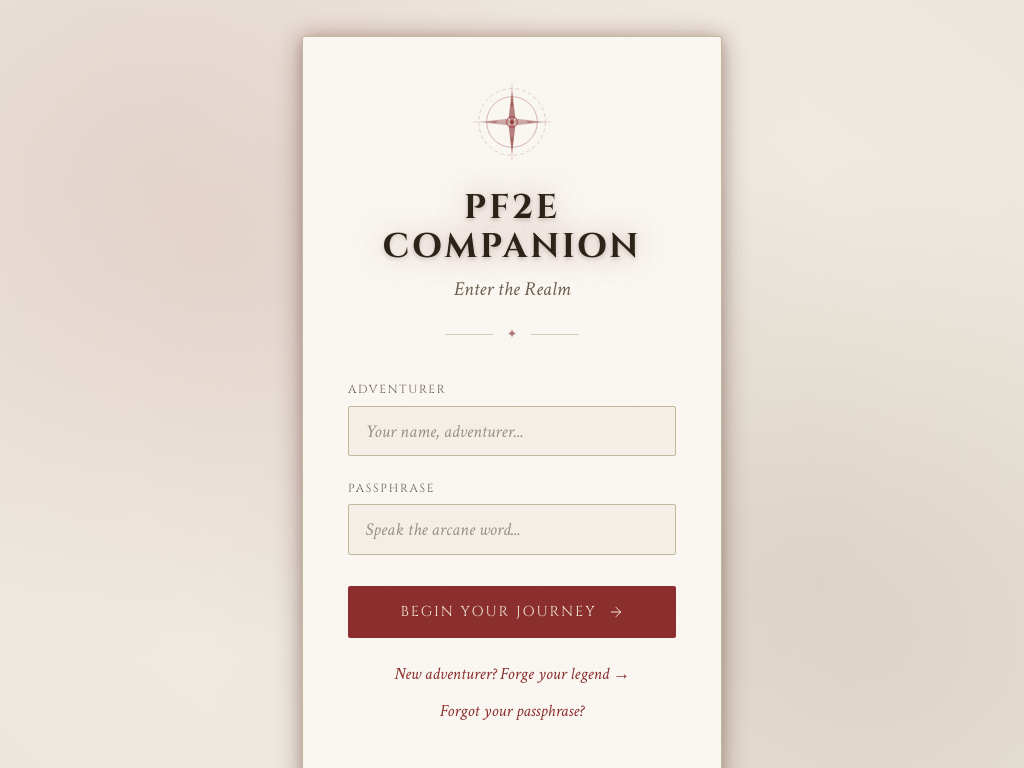
Test case: Login › should show error message when login fails
Type "testuser" into the field labelled "Adventurer" at (512, 431), box [348,406,676,456]
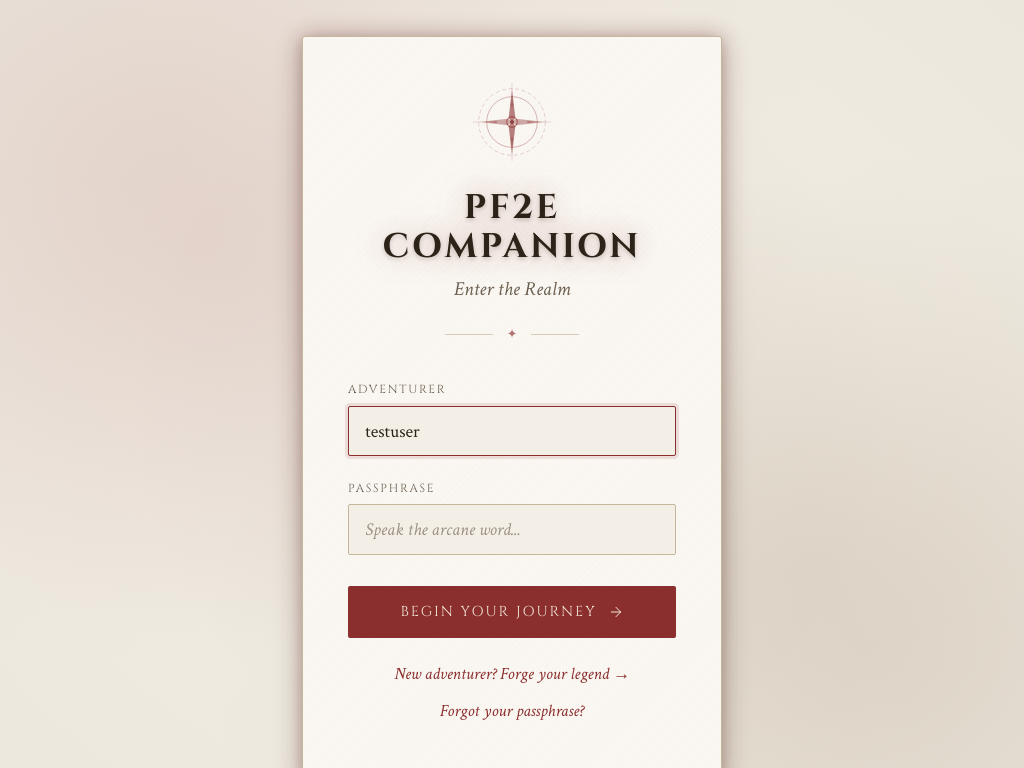
Type "wrongpass" into the password field labelled "Passphrase" at (512, 529), box [348,504,676,554]
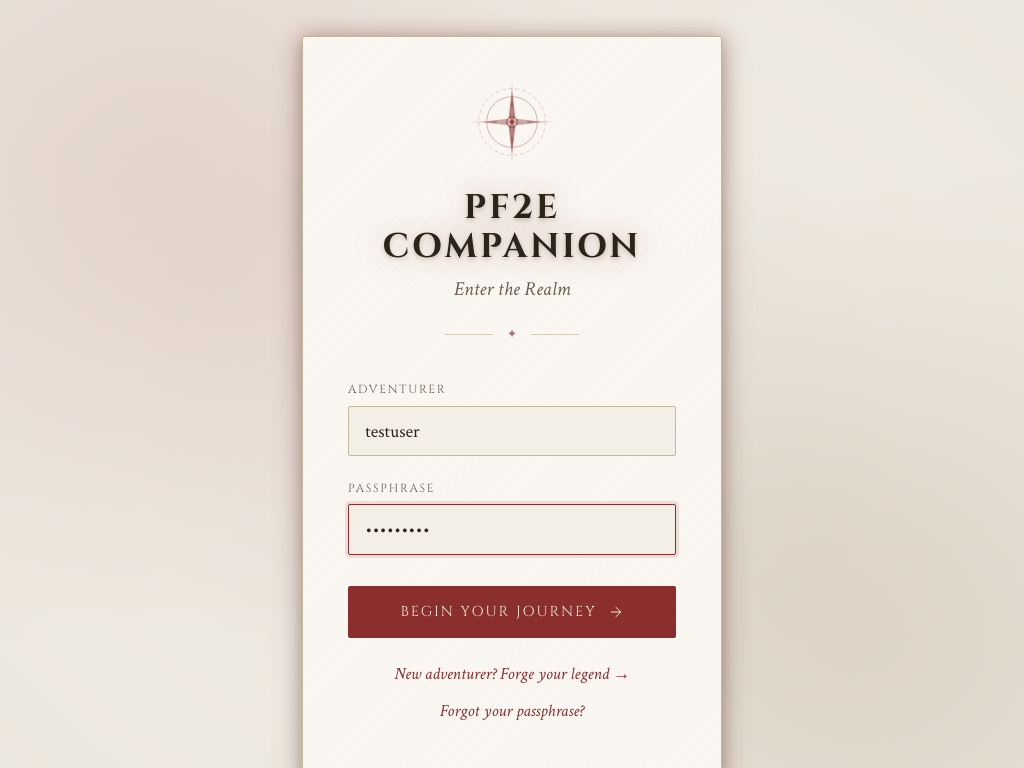
Click the button "Begin Your Journey" at (512, 612), box [348,586,676,638]
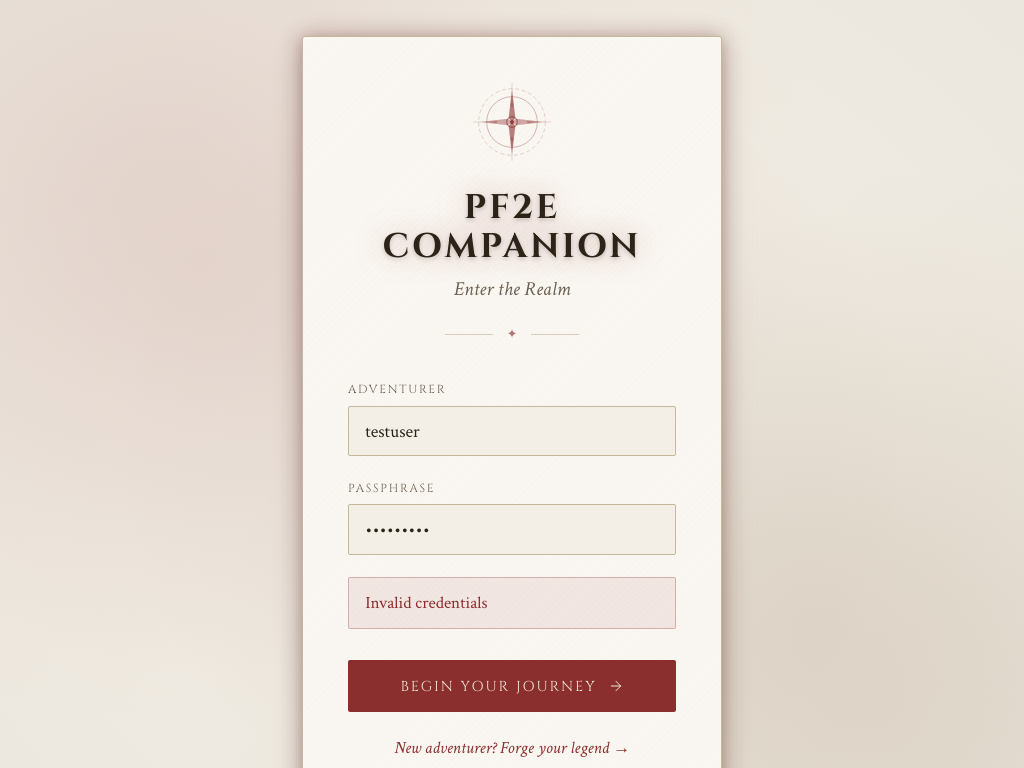
Expected: the message reads "Invalid credentials", [365,592,487,614]
